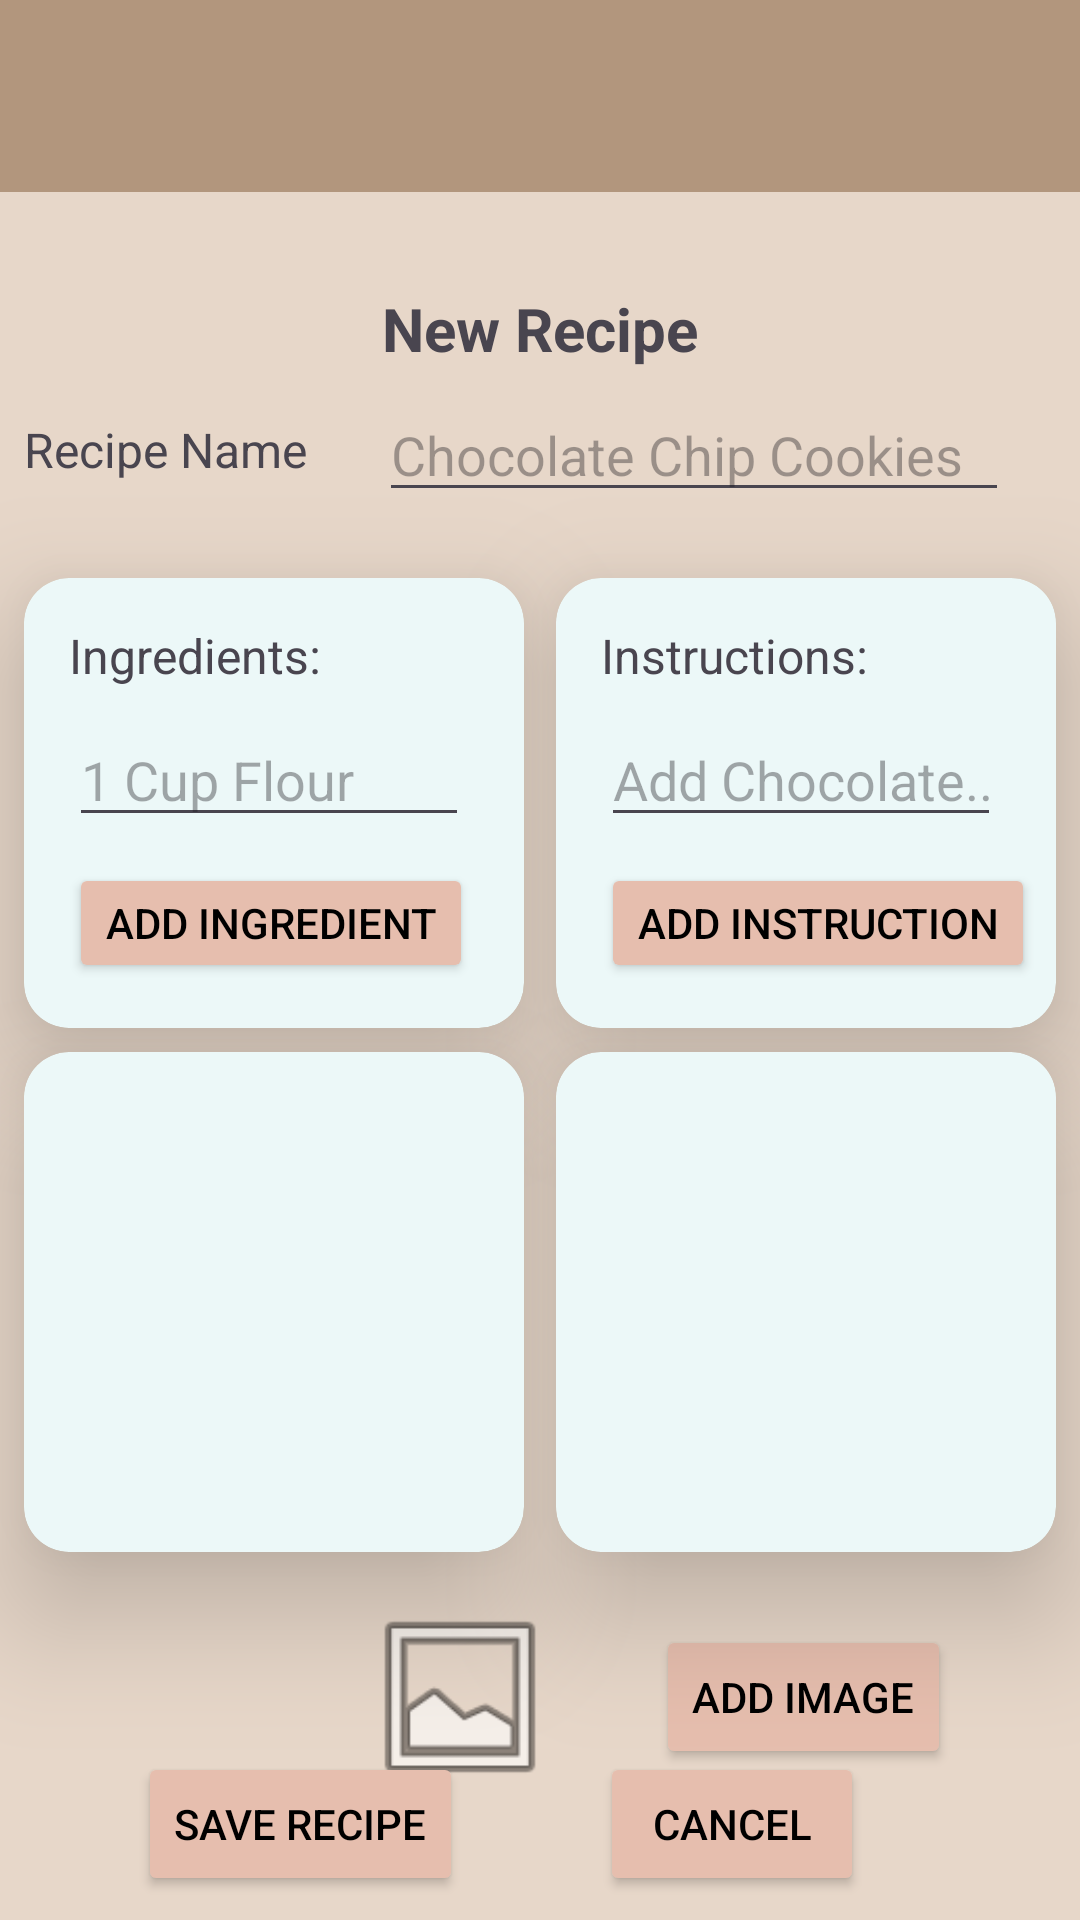

Where icons sit on this 1080 x 1920 app screen, as (x1, y1, x2, y2):
gallery: (360, 1597, 560, 1797)
